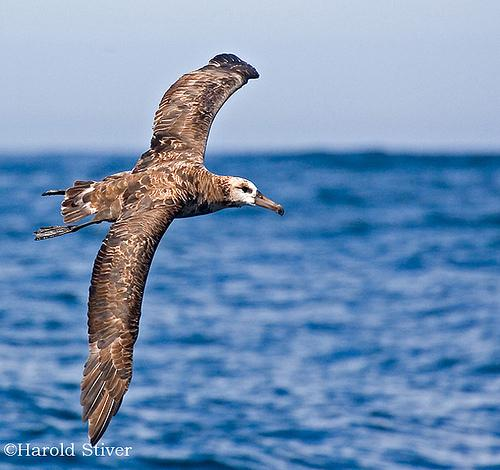001.Black_footed_Albatross: (38, 56, 288, 443)
